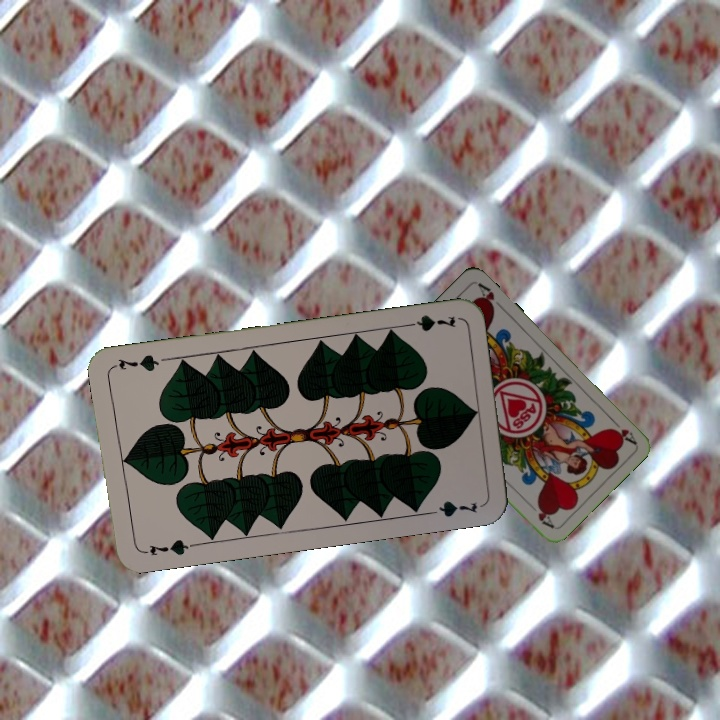G7: (138, 535, 197, 559), (399, 311, 458, 334)
HA: (606, 413, 638, 446)
